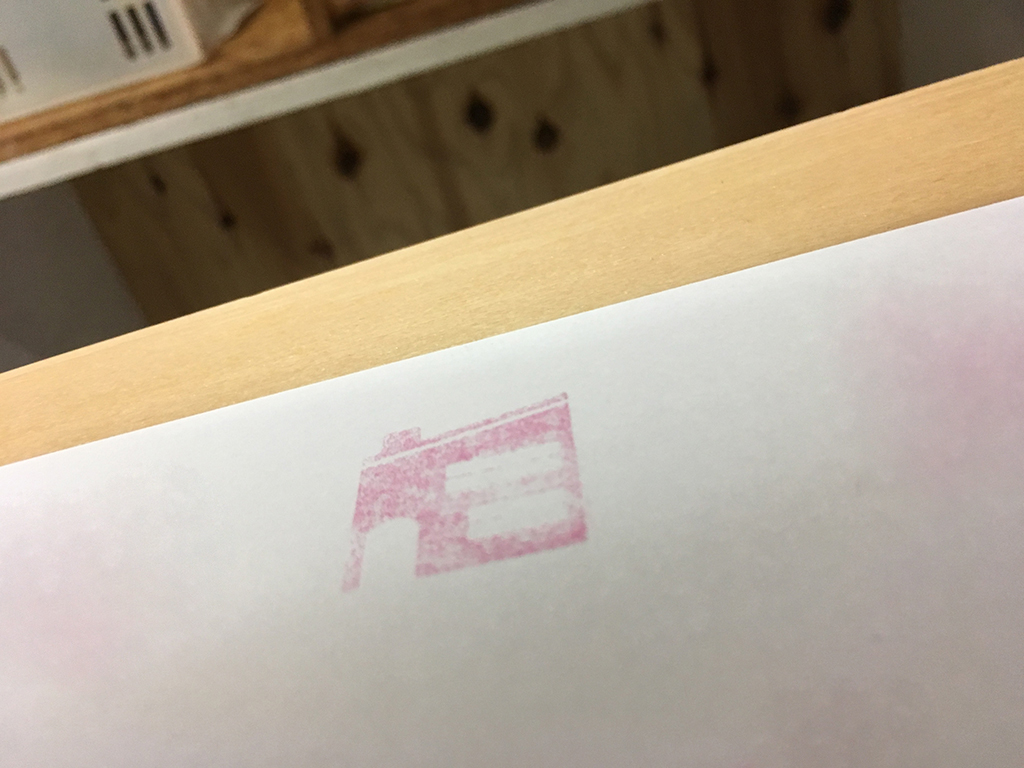house: (330, 383, 600, 599)
